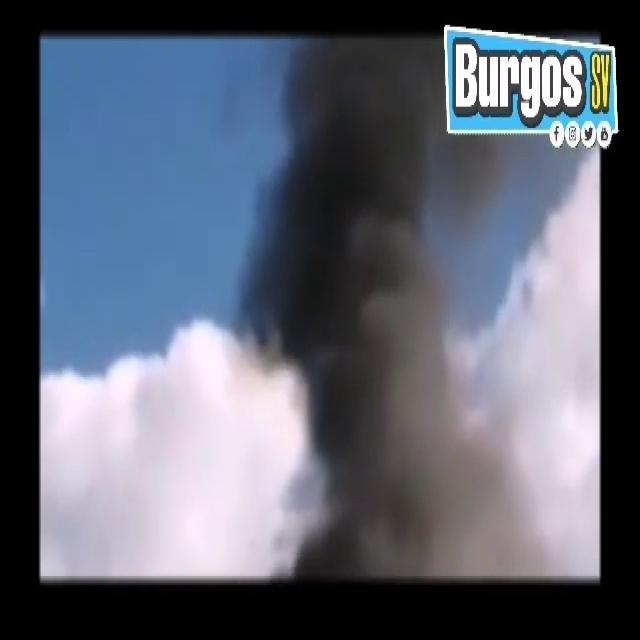Smoke: (238, 31, 532, 572)
